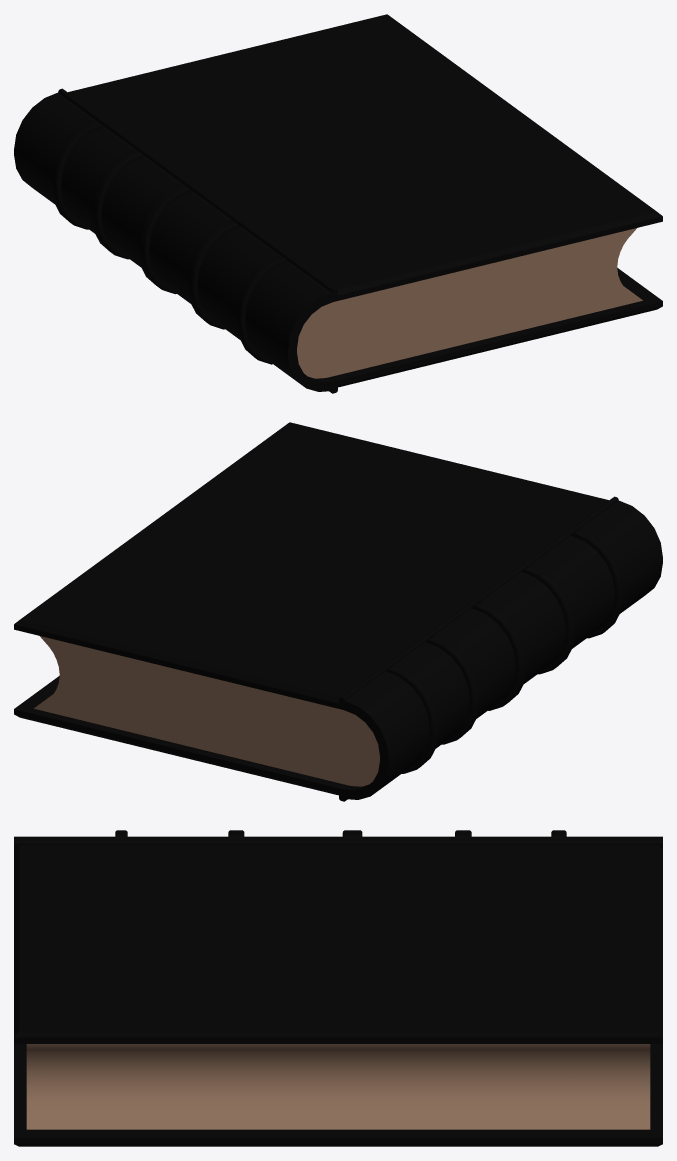
The model's file is Book.fbx.
The picture shows the model from 3 angles, top to bottom: view 1: azimuth 30°, elevation 25°; view 2: azimuth 150°, elevation 25°; view 3: azimuth 270°, elevation 25°; orthographic projection. The views are drawn at different scales.
Parts seen in each view (by area): view 1: Book; view 2: Book; view 3: Book.
Part boxes in pixels (x1,y1,x2,y2): Book: [14, 14, 662, 393]; Book: [14, 422, 662, 801]; Book: [14, 830, 662, 1146].
Bounding box in the file's own units: 34.83 × 9.18 × 43.59.
